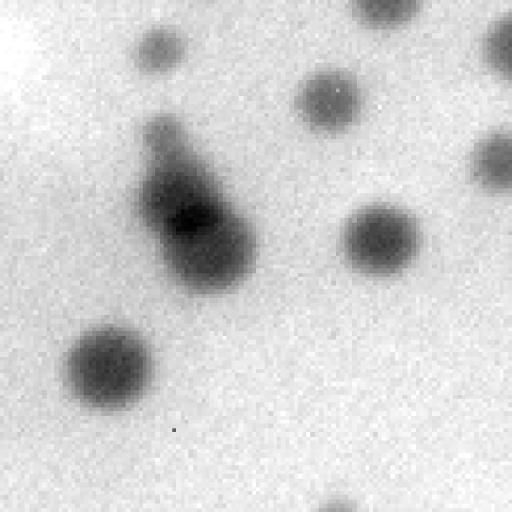Nanoparticles: (154, 194, 263, 300), (56, 318, 157, 416), (335, 198, 433, 286), (132, 151, 220, 231), (290, 60, 368, 138), (132, 24, 188, 85), (465, 125, 512, 195), (343, 0, 428, 35), (134, 112, 193, 158), (479, 11, 512, 87), (314, 494, 362, 512)
